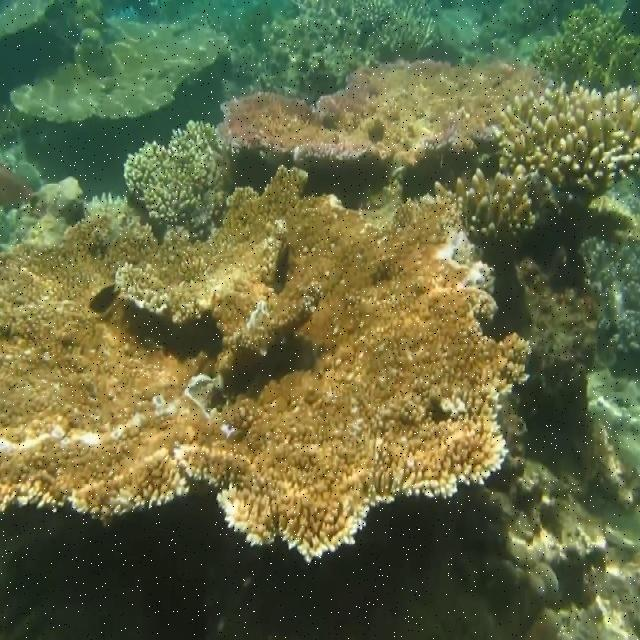reefs: (0, 57, 549, 563), (456, 79, 639, 239), (0, 1, 229, 122), (119, 116, 234, 237)
